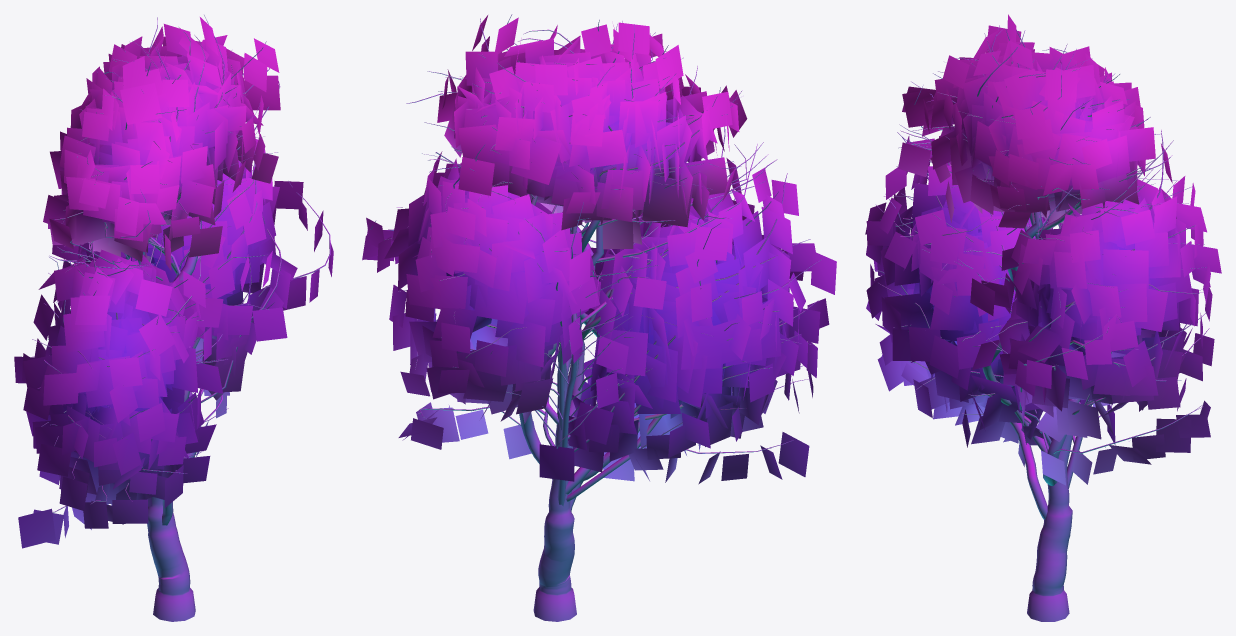
File: tree_birch_s10_a30_x10_wild.fbx
3 renders of one model, left to right at view 1: azimuth 30°, elevation 25°; view 2: azimuth 150°, elevation 25°; view 3: azimuth 270°, elevation 25°, orthographic. The views are drawn at different scales.
Visible parts, largest first — view 1: tree_birch_s10_a30_x10_wild_leaves, tree_birch_s10_a30_x10_wild_branches; view 2: tree_birch_s10_a30_x10_wild_leaves, tree_birch_s10_a30_x10_wild_branches; view 3: tree_birch_s10_a30_x10_wild_leaves, tree_birch_s10_a30_x10_wild_branches.
Boxes of the visible parts, x1,y1,x2,y2 form: tree_birch_s10_a30_x10_wild_leaves: (14,17,333,548); tree_birch_s10_a30_x10_wild_branches: (32,15,330,621); tree_birch_s10_a30_x10_wild_leaves: (362,15,836,484); tree_birch_s10_a30_x10_wild_branches: (370,14,823,621); tree_birch_s10_a30_x10_wild_leaves: (865,14,1221,485); tree_birch_s10_a30_x10_wild_branches: (873,20,1209,621).
Size of the model in its own units: 4.86 by 7.31 by 4.14.
